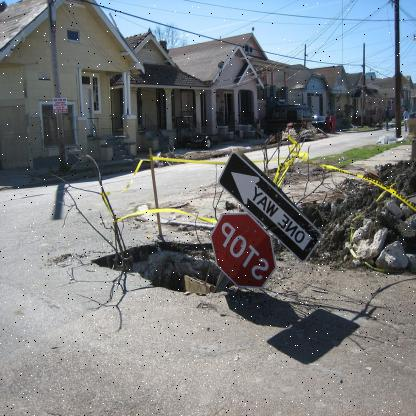pothole: (87, 224, 214, 308)
